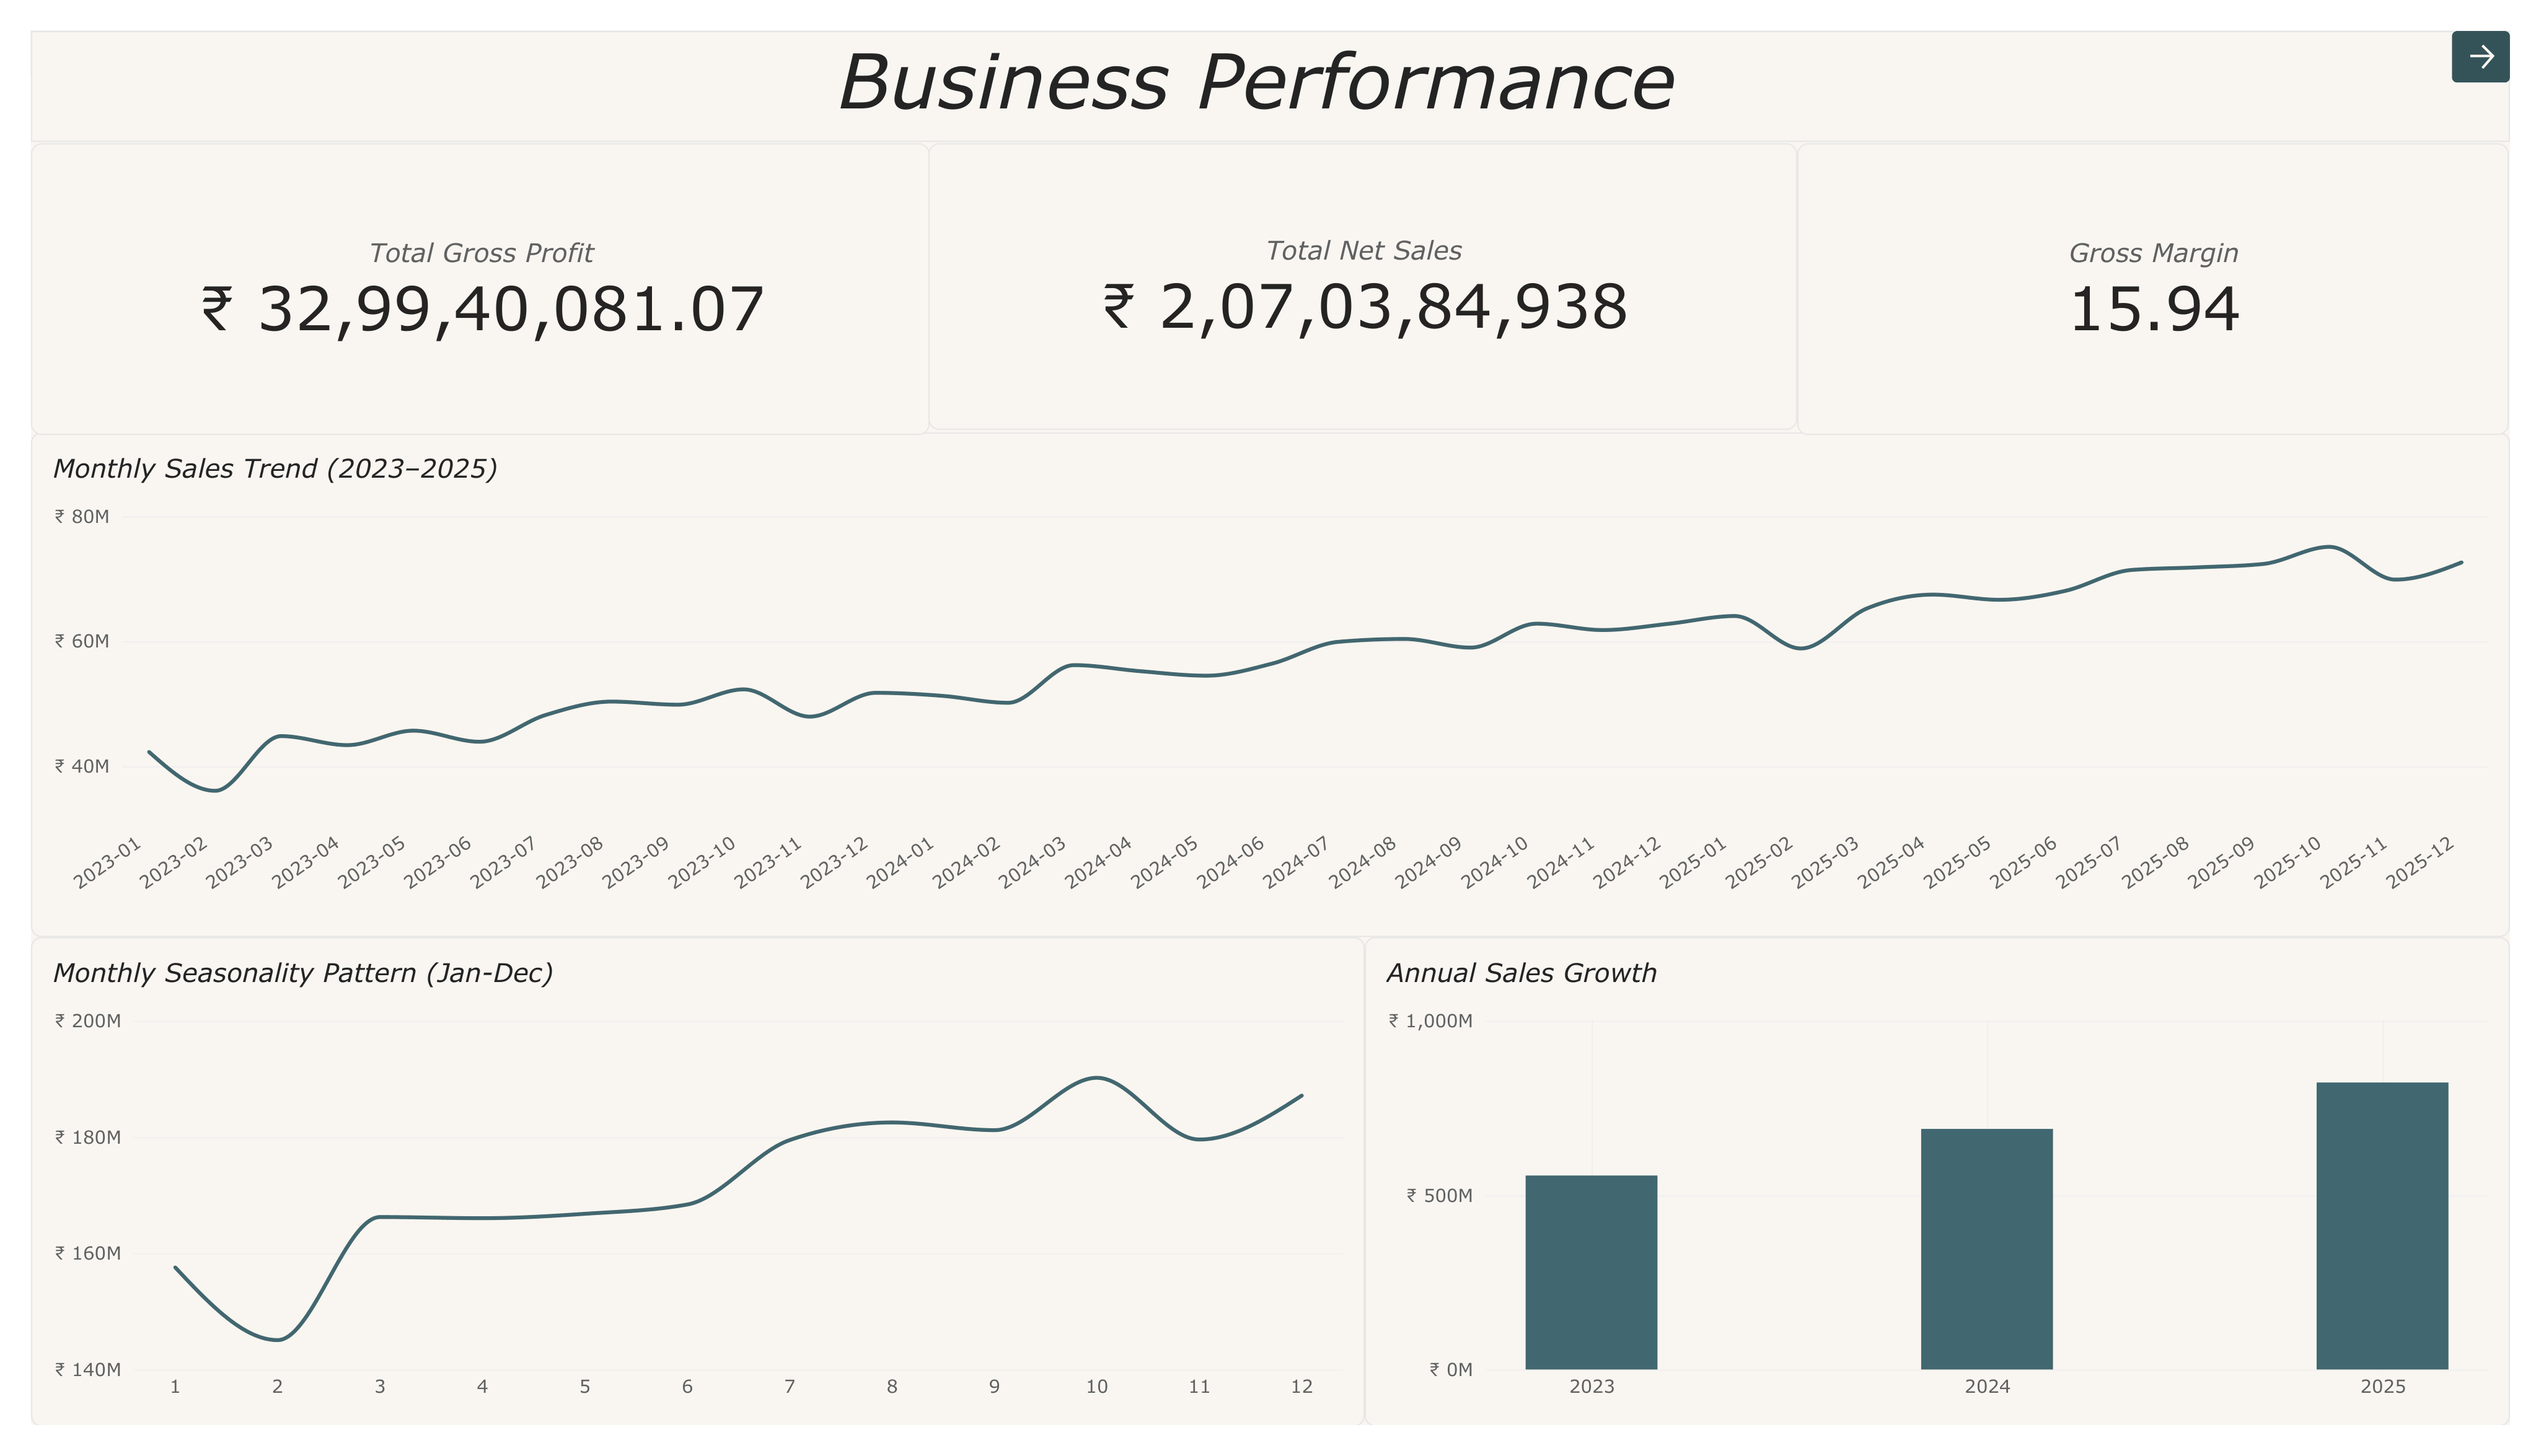

Layout of this report page (visuals, bound fields, positions):
{"tool":"powerbi","page":{"name":"Business Performance","canvas":[1920,1080],"ordinal":0},"visuals":[{"type":"lineChart","title":"Monthly Sales Trend (2023–2025)","fields":{"Category":["shopsphere vw_monthly_sales.sales_month_label"],"Y":["Sum(shopsphere vw_monthly_sales.net_sales)"]},"box":[0,311.3,1920.4,391.1],"z":0},{"type":"clusteredColumnChart","title":"Annual Sales Growth","fields":{"Category":["shopsphere vw_monthly_sales.sales_year"],"Y":["Sum(shopsphere vw_monthly_sales.net_sales)"]},"box":[1033.3,701.9,887.1,378.7],"z":1000},{"type":"lineChart","title":"Monthly Seasonality Pattern (Jan-Dec)","fields":{"Category":["shopsphere vw_monthly_sales.sales_month"],"Y":["Sum(shopsphere vw_monthly_sales.net_sales)"]},"box":[0,702.1,1033.3,378.7],"z":2000},{"type":"cardVisual","fields":{"Data":["Sum(shopsphere vw_sales_summary.net_sales)"]},"box":[694.9,86.9,673.2,222.6],"z":3000},{"type":"cardVisual","fields":{"Data":["Sum(shopsphere vw_sales_summary.gross_margin_pct)"]},"box":[1368.1,86.9,551.9,226.2],"z":4000},{"type":"cardVisual","fields":{"Data":["Sum(shopsphere vw_sales_summary.gross_profit)"]},"box":[0,86.9,696.7,226.2],"z":5000},{"type":"textbox","box":[0,0,1920.4,86.4],"z":6000},{"type":"actionButton","box":[1874.8,0,45.2,39.8],"z":7000}]}

Visuals, with their boxes on the page's 1920x1080 design canvas (x1, y1, x2, y2). These are canvas units, not pixel positions in the 2541x1456 screenshot, which may show the page scaled, cropped or inside an application window:
"Monthly Sales Trend (2023–2025)" lineChart: <bbox>0, 311, 1920, 702</bbox>
"Annual Sales Growth" clusteredColumnChart: <bbox>1033, 702, 1920, 1081</bbox>
"Monthly Seasonality Pattern (Jan-Dec)" lineChart: <bbox>0, 702, 1033, 1081</bbox>
cardVisual - Sum(shopsphere vw_sales_summary.net_sales): <bbox>695, 87, 1368, 310</bbox>
cardVisual - Sum(shopsphere vw_sales_summary.gross_margin_pct): <bbox>1368, 87, 1920, 313</bbox>
cardVisual - Sum(shopsphere vw_sales_summary.gross_profit): <bbox>0, 87, 697, 313</bbox>
textbox: <bbox>0, 0, 1920, 86</bbox>
actionButton: <bbox>1875, 0, 1920, 40</bbox>
